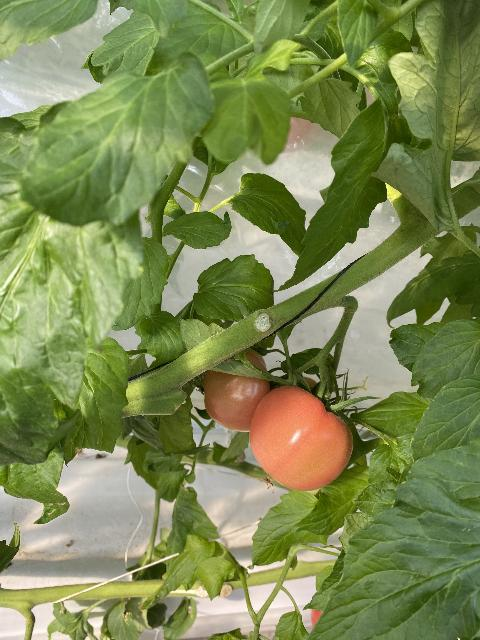b_fully_ripened: (249, 386, 354, 491)
b_half_ripened: (203, 347, 270, 432)
